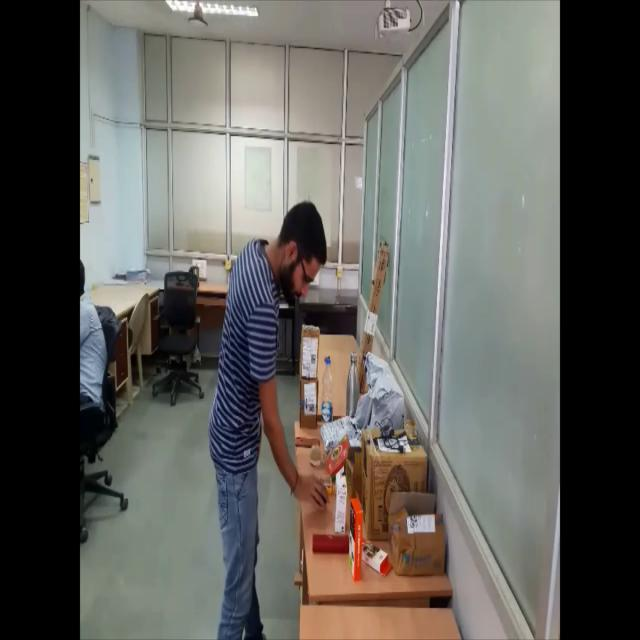normal: (211, 189, 335, 640)
